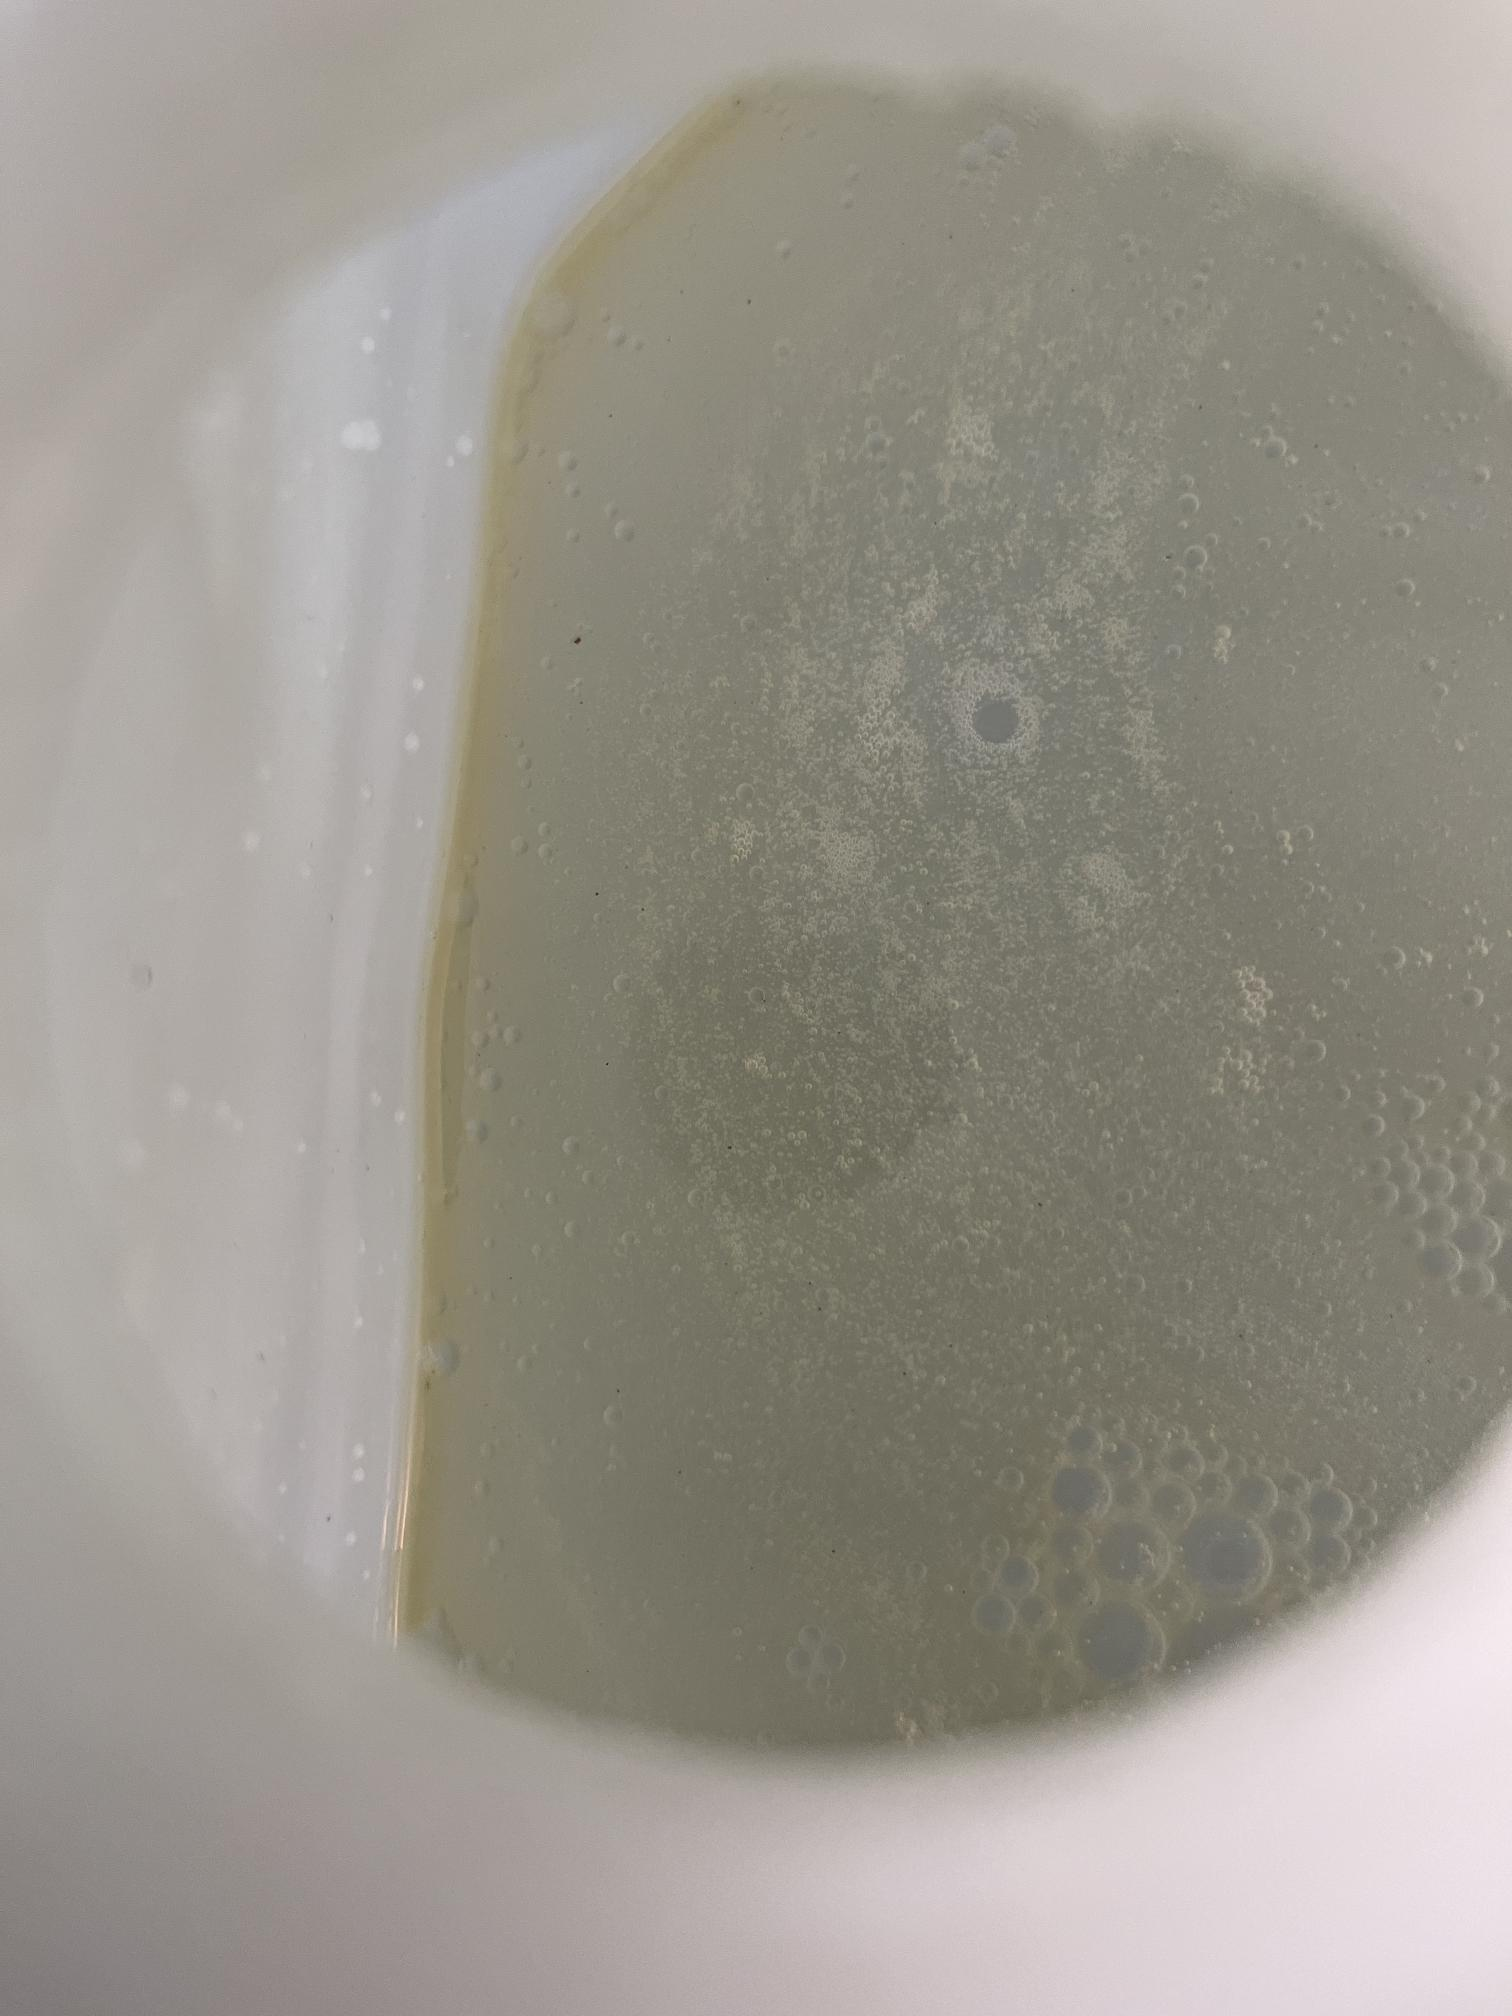Presenca de Oleo - - 140ml: (221, 70, 1436, 1849)
